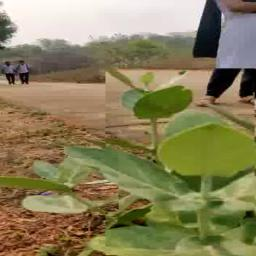Calotropis: (106, 68, 256, 256), (0, 158, 120, 212)
